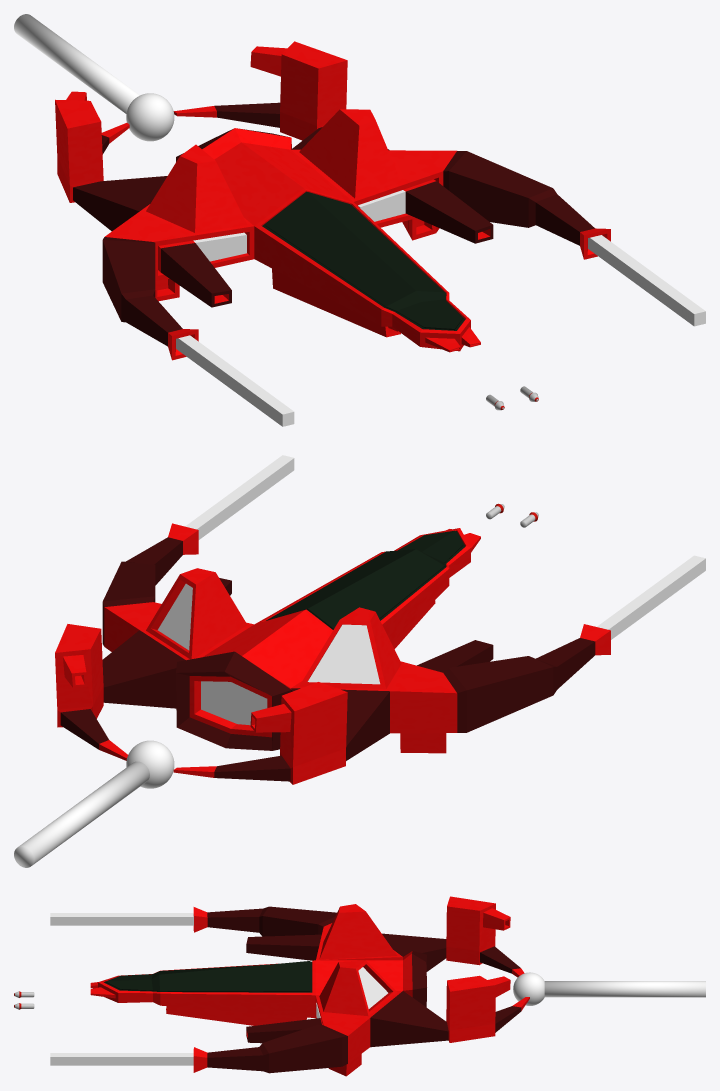
Rendered from nave_carrera.obj.
3 views of the same model, one above another, from view 1: azimuth 30°, elevation 25°; view 2: azimuth 150°, elevation 25°; view 3: azimuth 270°, elevation 25° (orthographic). The views are drawn at different scales.
Visible parts, largest first — view 1: nave_carrera_metal.001, nave_carrera_listras.001, nave_carrera_energia.001, nave_carrera_vidro.001; view 2: nave_carrera_metal.001, nave_carrera_listras.001, nave_carrera_energia.001, nave_carrera_vidro.001; view 3: nave_carrera_metal.001, nave_carrera_listras.001, nave_carrera_energia.001, nave_carrera_vidro.001.
Part boxes in pixels (box(x1,y1,x2,y2)): nave_carrera_metal.001: box(55, 41, 610, 360); nave_carrera_listras.001: box(73, 102, 594, 346); nave_carrera_energia.001: box(14, 14, 705, 426); nave_carrera_vidro.001: box(262, 191, 465, 330); nave_carrera_metal.001: box(55, 523, 610, 784); nave_carrera_listras.001: box(60, 537, 595, 781); nave_carrera_energia.001: box(14, 455, 705, 867); nave_carrera_vidro.001: box(266, 530, 465, 629); nave_carrera_metal.001: box(90, 896, 529, 1076); nave_carrera_listras.001: box(207, 906, 521, 1073); nave_carrera_energia.001: box(50, 913, 705, 1065); nave_carrera_vidro.001: box(104, 961, 312, 992).
Size of the model in its own units: 7.08 by 1.87 by 13.87.
